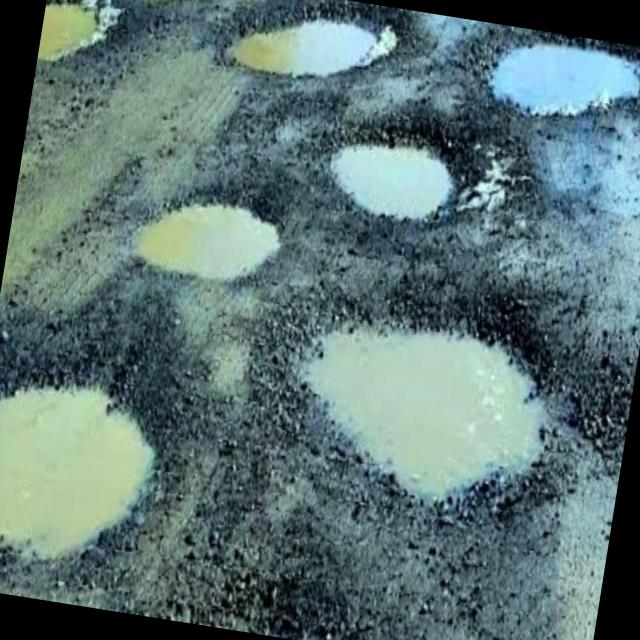Potholes: (270, 252, 580, 533), (0, 374, 184, 576), (308, 100, 486, 240), (209, 0, 420, 106), (475, 23, 640, 140), (124, 181, 289, 286), (36, 0, 141, 81), (88, 0, 226, 35)
